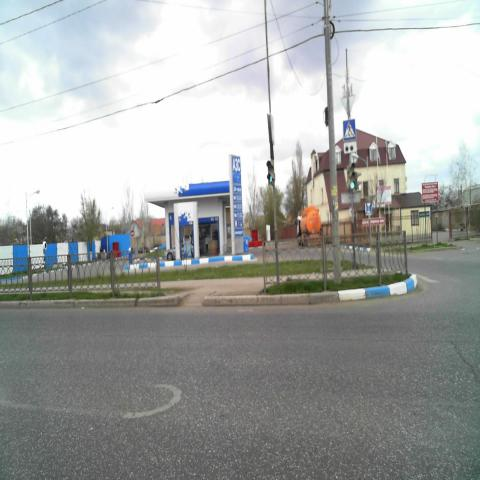3_1: (131, 230, 135, 237)
5_19_1: (343, 120, 356, 140)
8_15: (344, 142, 357, 154)
